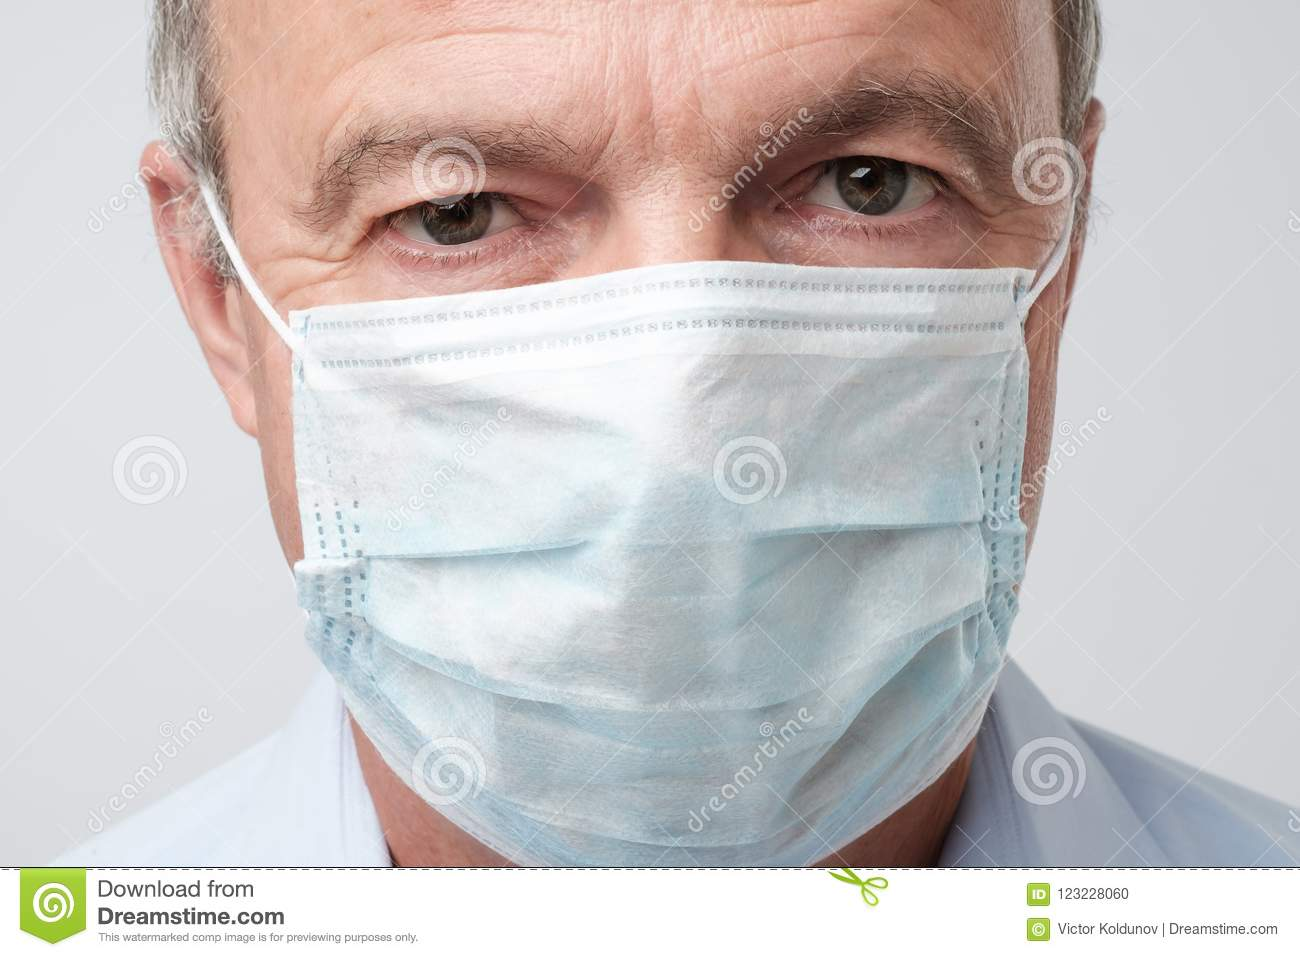mask: (253, 283, 1073, 870)
